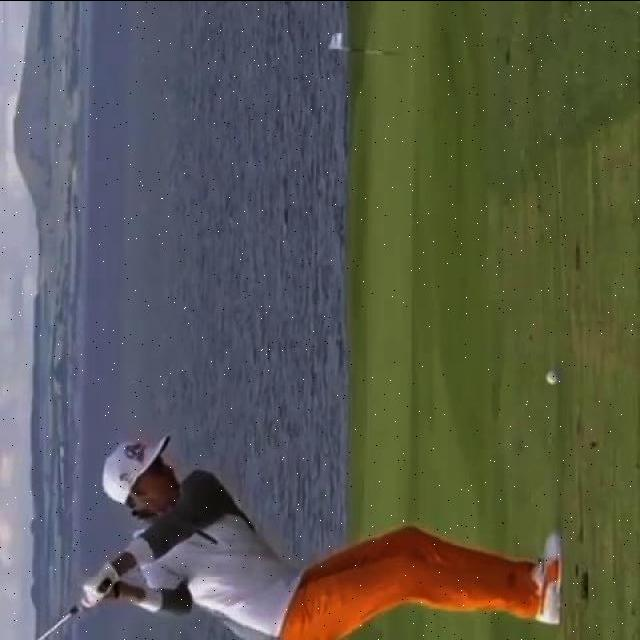ClubHandle: (35, 577, 112, 640)
GolfBall: (545, 371, 558, 385)
